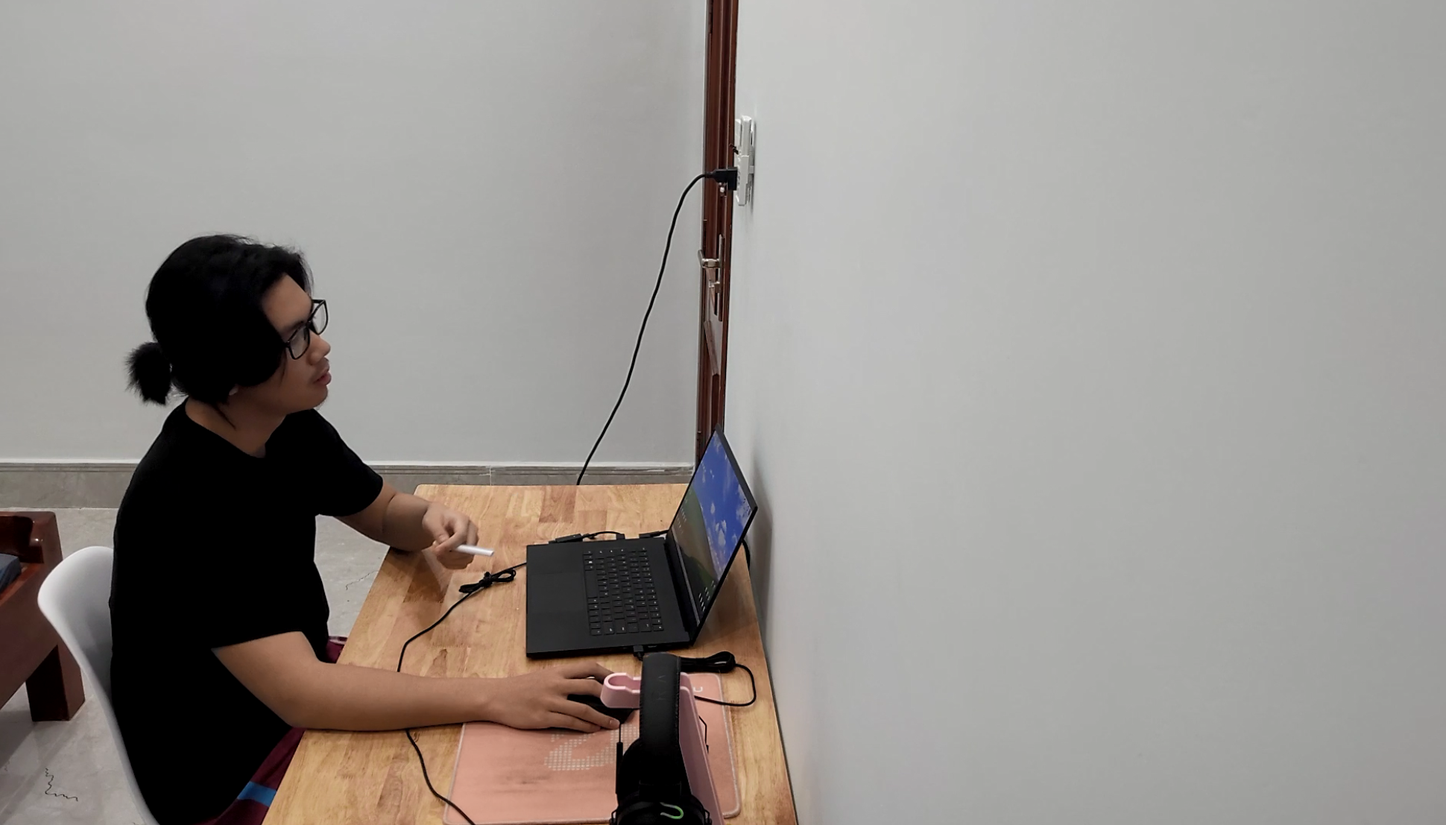cigarette: (438, 532, 497, 558)
person: (84, 212, 470, 825)
